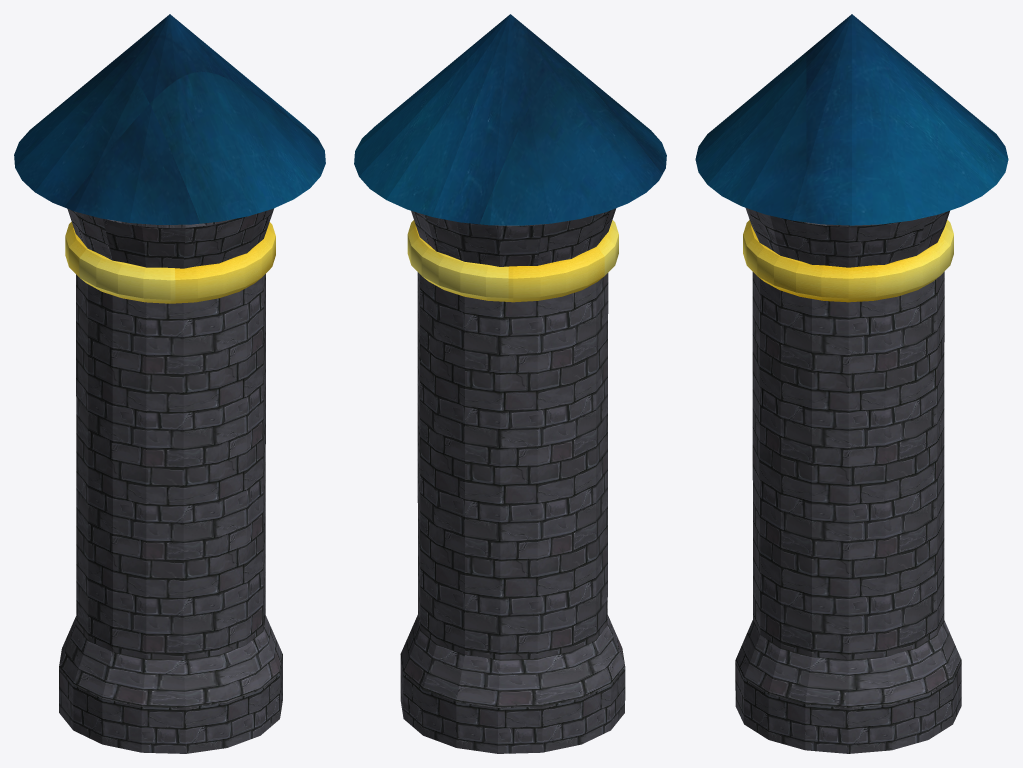
Rendered from torrecoberta.fbx.
The picture shows the model from 3 angles, left to right: view 1: azimuth 30°, elevation 25°; view 2: azimuth 150°, elevation 25°; view 3: azimuth 270°, elevation 25°; orthographic projection.
Visible parts, largest first — view 1: Cone.003; view 2: Cone.003; view 3: Cone.003.
Boxes of the visible parts, bbox=[...] form: Cone.003: bbox=[14, 14, 325, 753]; Cone.003: bbox=[354, 14, 666, 753]; Cone.003: bbox=[695, 14, 1008, 753].
Bounding box in the file's own units: 1011 × 2468 × 1011.
Materials: 3 (3 with a texture image).
